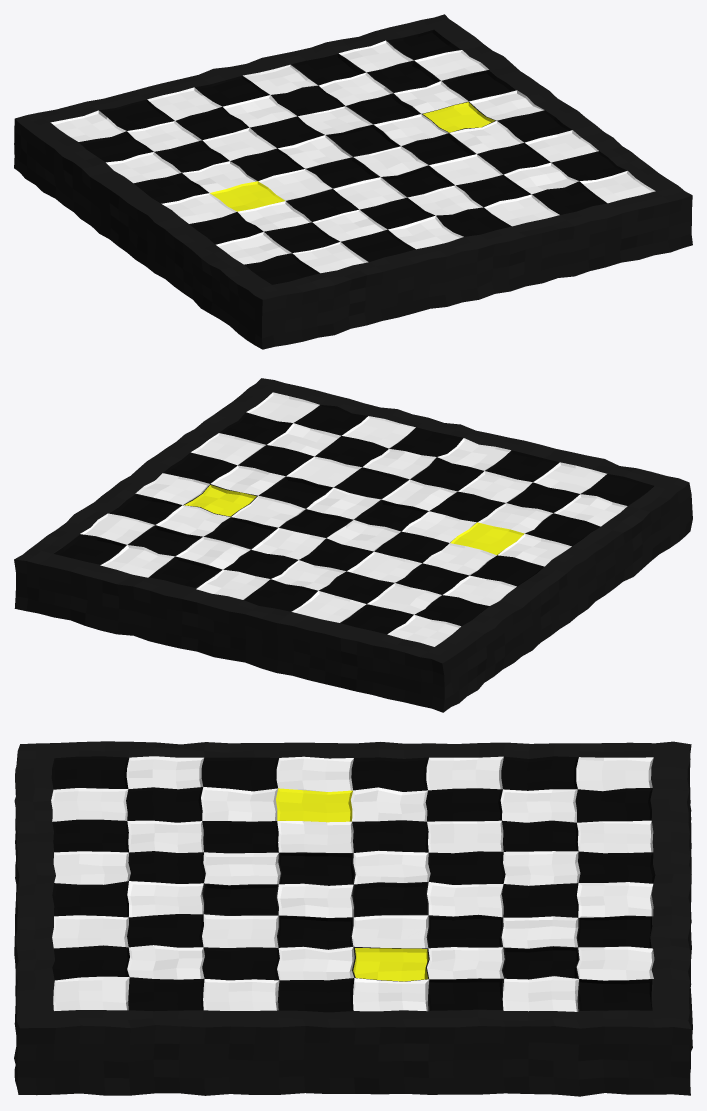
File: Chessboard.FBX
3 renders of one model, top to bottom at view 1: azimuth 30°, elevation 25°; view 2: azimuth 150°, elevation 25°; view 3: azimuth 270°, elevation 25°, orthographic. The views are drawn at different scales.
Parts seen in each view (by area): view 1: Chessboard; view 2: Chessboard; view 3: Chessboard.
Part boxes in pixels (left/top/right/bottom): Chessboard: left=14, top=14, right=692, bottom=349; Chessboard: left=14, top=378, right=692, bottom=712; Chessboard: left=14, top=741, right=692, bottom=1096.
Size of the model in its own units: 90.63 by 10.84 by 90.63.
